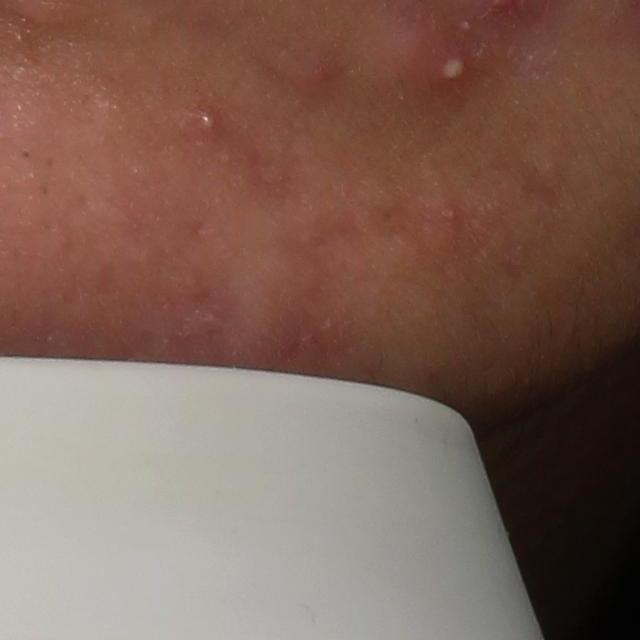papule: (374, 24, 444, 97), (285, 56, 335, 96)
pustule: (187, 104, 222, 138)
